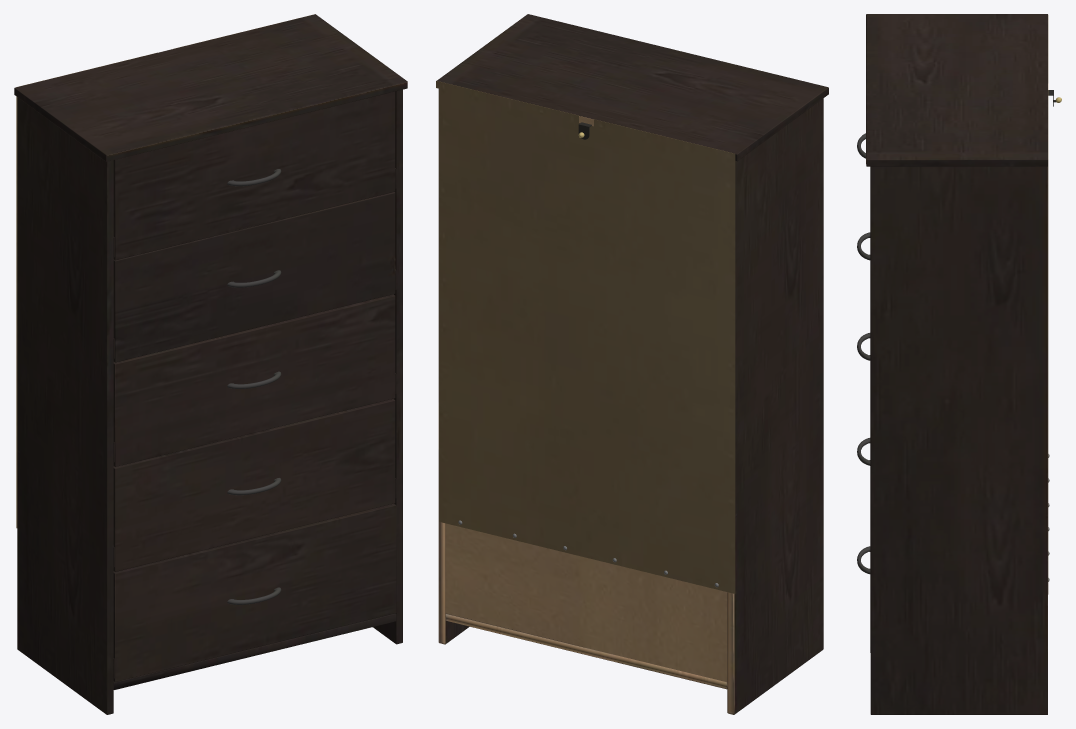
File: B07PYKPBY9.glb
3 views of the same model, side by side, from view 1: azimuth 30°, elevation 25°; view 2: azimuth 150°, elevation 25°; view 3: azimuth 270°, elevation 25° (orthographic).
Parts seen in each view (by area): view 1: RootNode; view 2: RootNode; view 3: RootNode.
Boxes of the visible parts, <box> form: RootNode: <box>14,14,407,714</box>; RootNode: <box>436,14,828,714</box>; RootNode: <box>857,14,1061,714</box>.
Bounding box in the file's own units: 0.7039 × 1.25 × 0.4179.
Materials: 1 (1 with a texture image).
